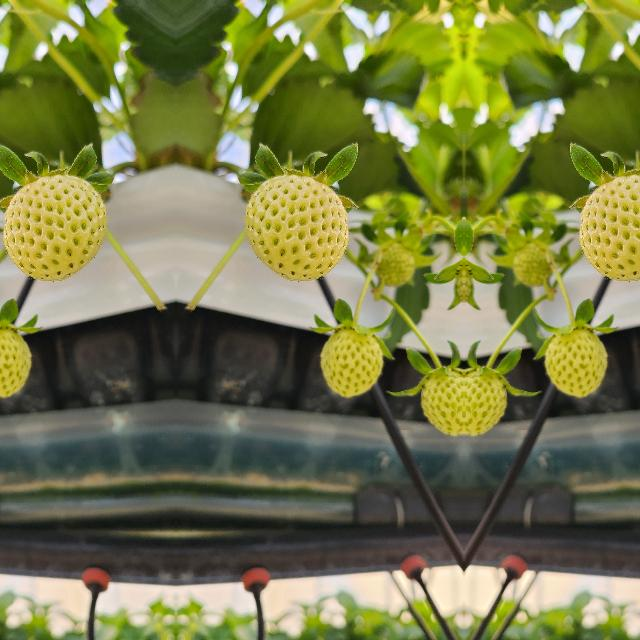Health_25: (243, 175, 347, 281), (3, 175, 107, 281), (579, 175, 640, 281)
